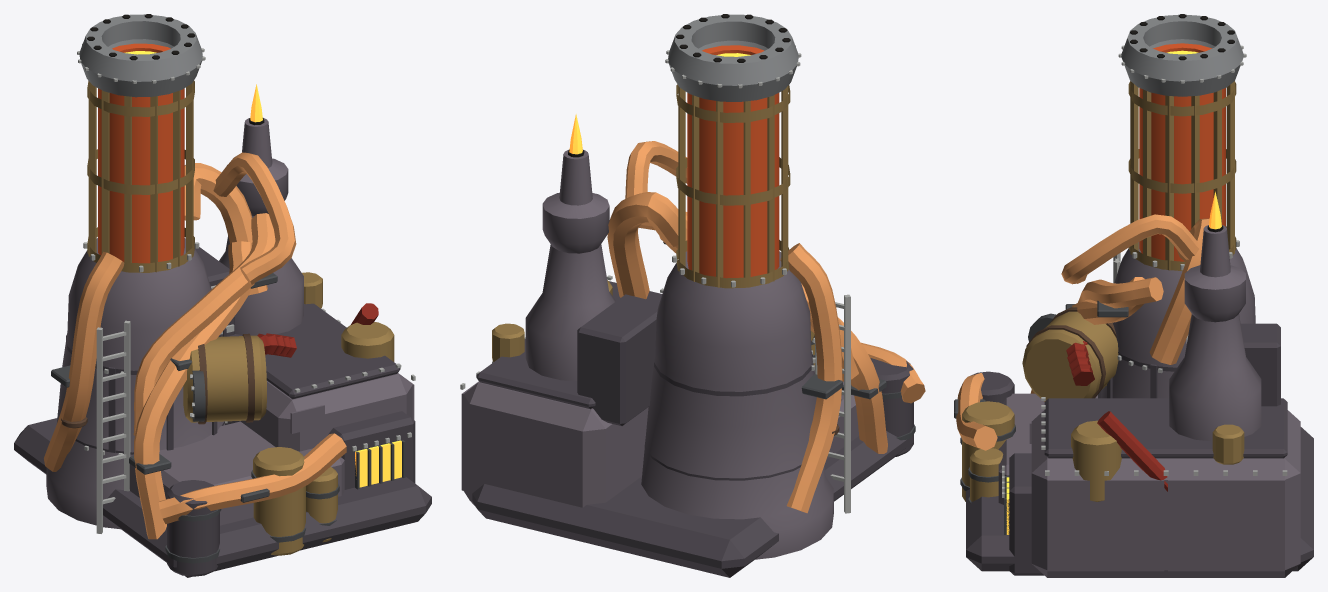
File: heating-tower.glb
3 views of the same model, side by side, from view 1: azimuth 30°, elevation 25°; view 2: azimuth 150°, elevation 25°; view 3: azimuth 270°, elevation 25° (orthographic). The views are drawn at different scales.
Visible parts, largest first — view 1: body, anim_glow_heat, anim_glow_fire; view 2: body, anim_glow_heat, anim_glow_fire; view 3: body, anim_glow_heat, anim_glow_fire.
Boxes of the visible parts, bbox=[...] form: body: bbox=[14, 14, 431, 577]; anim_glow_heat: bbox=[44, 152, 346, 539]; anim_glow_fire: bbox=[98, 43, 184, 263]; body: bbox=[460, 14, 915, 577]; anim_glow_heat: bbox=[607, 141, 925, 513]; anim_glow_fire: bbox=[687, 45, 779, 278]; body: bbox=[954, 14, 1313, 577]; anim_glow_heat: bbox=[956, 214, 1209, 450]; anim_glow_fire: bbox=[1139, 43, 1225, 261].
Bounding box in the file's own units: 2.58 × 3.78 × 2.74.
